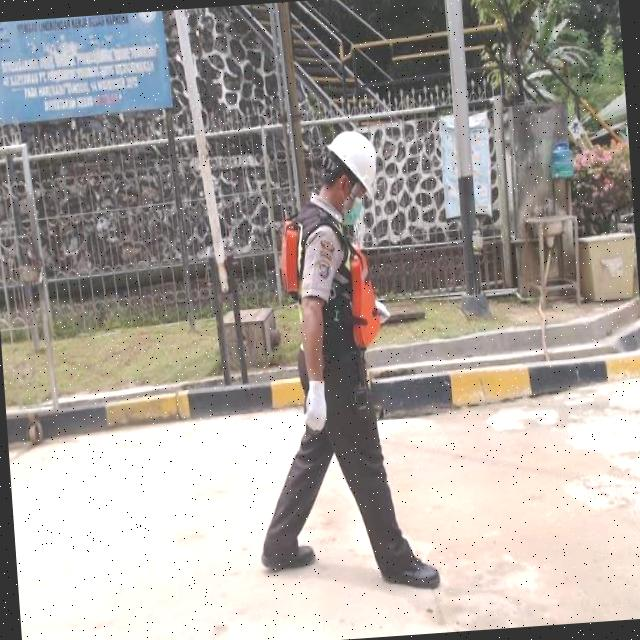boots: (376, 552, 444, 600), (258, 538, 320, 574)
helmet: (322, 125, 378, 206)
vest: (276, 206, 388, 368)
